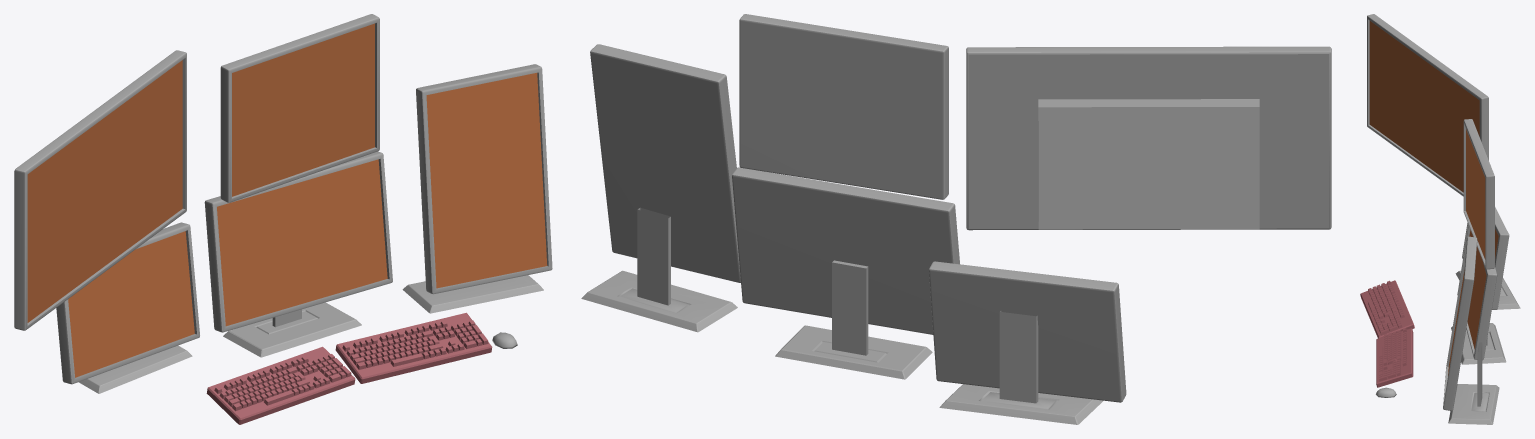
Rendered from m_Prop_Pc_01.fbx.
The picture shows the model from 3 angles, left to right: view 1: azimuth 30°, elevation 25°; view 2: azimuth 150°, elevation 25°; view 3: azimuth 270°, elevation 25°; orthographic projection. The views are drawn at different scales.
Parts seen in each view (by area): view 1: polySurface12730; view 2: polySurface12730; view 3: polySurface12730.
Boxes of the visible parts, x1,y1,x2,y2 form: polySurface12730: (14, 14, 552, 424); polySurface12730: (581, 14, 1331, 424); polySurface12730: (1360, 14, 1520, 424).
Bounding box in the file's own units: 289 × 141 × 96.86.
